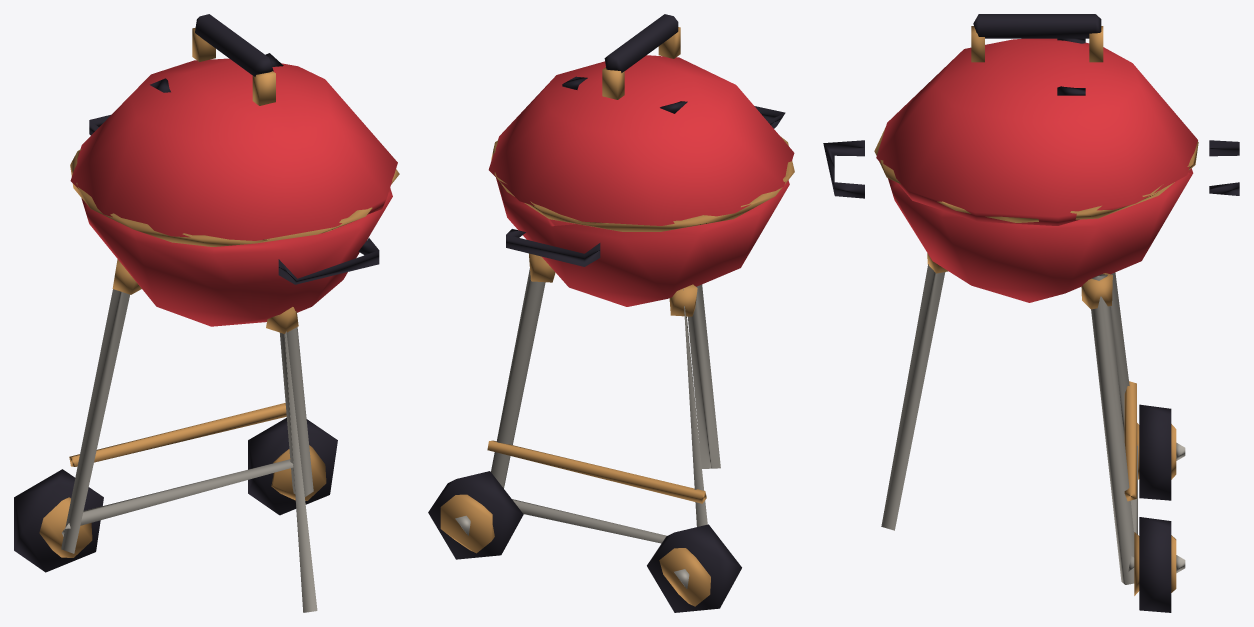
The picture shows the model from 3 angles, left to right: view 1: azimuth 30°, elevation 25°; view 2: azimuth 150°, elevation 25°; view 3: azimuth 270°, elevation 25°; orthographic projection. The views are drawn at different scales.
Parts seen in each view (by area): view 1: lid_pal_survivorRed, root_pal_survivorRed, root_pal_silver, root_pal_uiDark, root_pal_brass, lid_pal_brass, lid_pal_uiDark; view 2: lid_pal_survivorRed, root_pal_survivorRed, root_pal_silver, root_pal_uiDark, root_pal_brass, lid_pal_brass, lid_pal_uiDark; view 3: lid_pal_survivorRed, root_pal_survivorRed, root_pal_silver, root_pal_uiDark, root_pal_brass, lid_pal_uiDark, lid_pal_brass.
Part boxes in pixels (x1=…): lid_pal_survivorRed: x1=70, y1=58, x2=397, y2=240; root_pal_survivorRed: x1=81, y1=188, x2=392, y2=326; root_pal_silver: x1=61, y1=289, x2=317, y2=612; root_pal_uiDark: x1=14, y1=115, x2=379, y2=572; root_pal_brass: x1=39, y1=259, x2=326, y2=557; lid_pal_brass: x1=70, y1=27, x2=399, y2=246; lid_pal_uiDark: x1=150, y1=14, x2=283, y2=92; lid_pal_survivorRed: x1=488, y1=55, x2=794, y2=225; root_pal_survivorRed: x1=496, y1=178, x2=789, y2=306; root_pal_silver: x1=455, y1=268, x2=720, y2=588; root_pal_uiDark: x1=428, y1=106, x2=785, y2=612; root_pal_brass: x1=440, y1=253, x2=710, y2=606; lid_pal_brass: x1=491, y1=27, x2=794, y2=231; lid_pal_uiDark: x1=562, y1=14, x2=687, y2=113; lid_pal_survivorRed: x1=876, y1=38, x2=1197, y2=225; root_pal_survivorRed: x1=888, y1=168, x2=1193, y2=302; root_pal_silver: x1=881, y1=264, x2=1185, y2=584; root_pal_uiDark: x1=823, y1=140, x2=1239, y2=612; root_pal_brass: x1=927, y1=253, x2=1176, y2=595; lid_pal_uiDark: x1=973, y1=14, x2=1101, y2=95; lid_pal_brass: x1=874, y1=26, x2=1198, y2=222.
Size of the model in its own units: 0.7388 by 1.2 by 0.8462.
